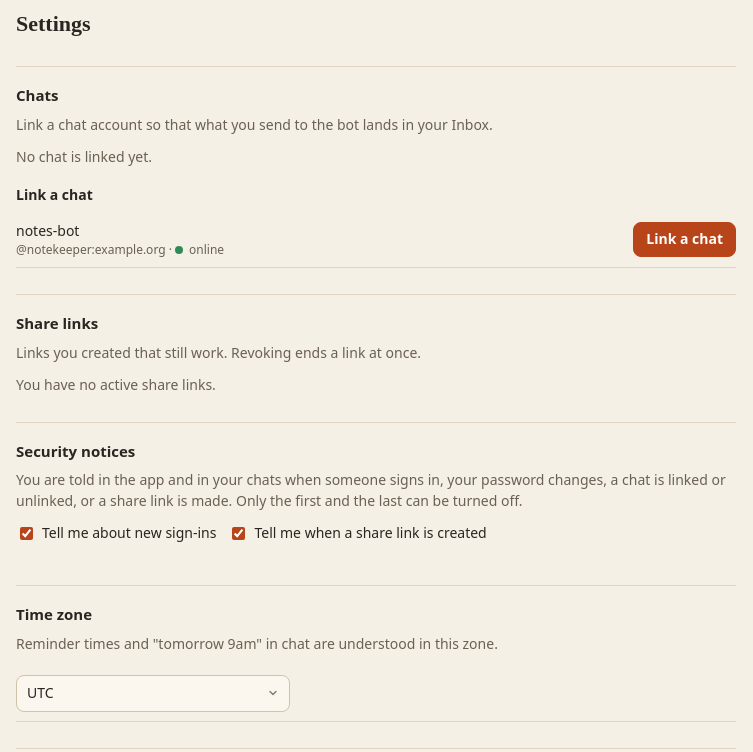
Test: SettingsPage pairing › says which account to message
This screenshot has width=753, height=752.
Expected: the text "@notekeeper:example.org · online" is shown, [16,241,224,258]
Click the button "Link a chat" at x=685, y=239, box [633,222,736,256]
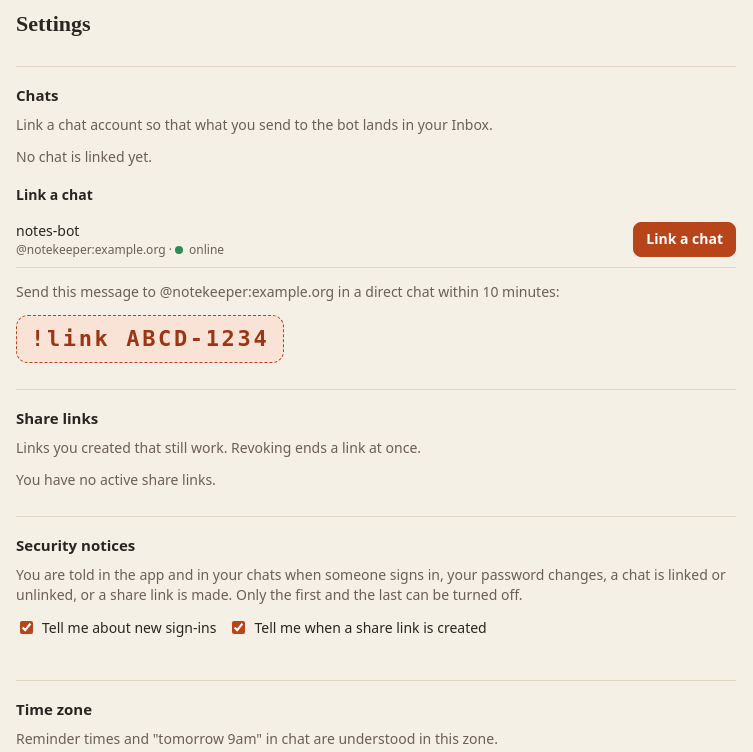
Expected: the text "Send this message to @notekeeper:example.org" is shown, [16,282,560,301]
Expected: the text "!link ABCD-1234" is shown, [16,314,284,363]
